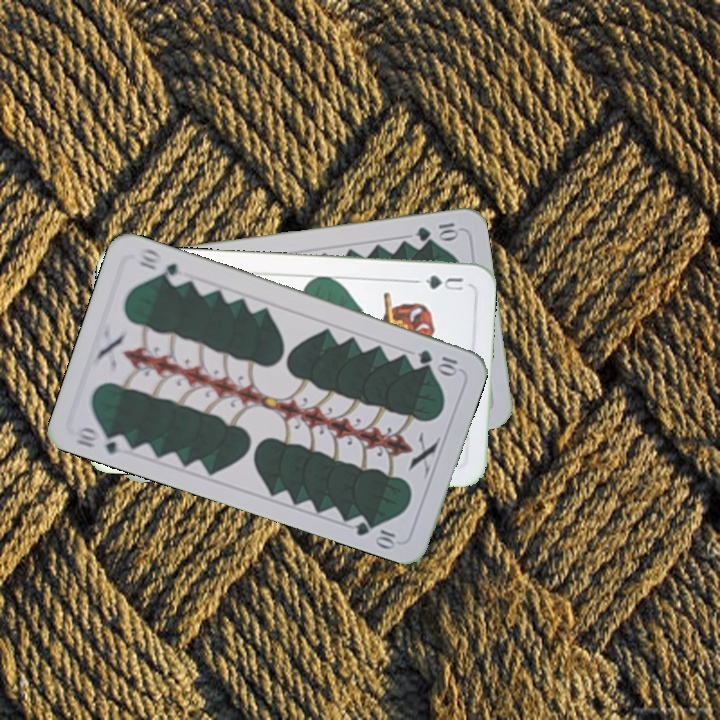G10: (71, 422, 131, 457), (414, 345, 460, 377), (412, 218, 461, 244)
GU: (411, 271, 466, 293)
